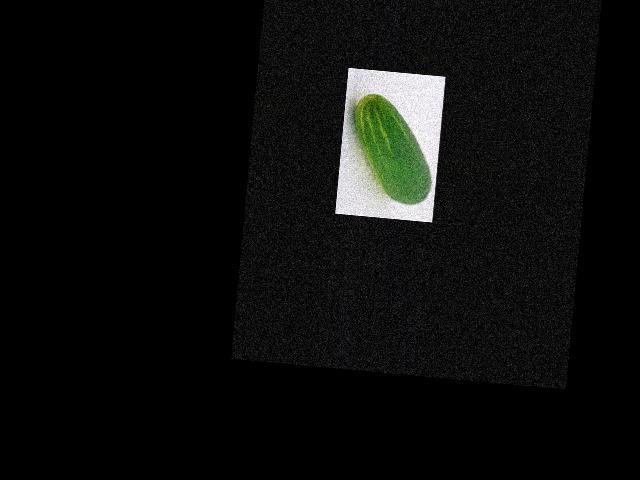cucumber: (346, 92, 438, 206)
